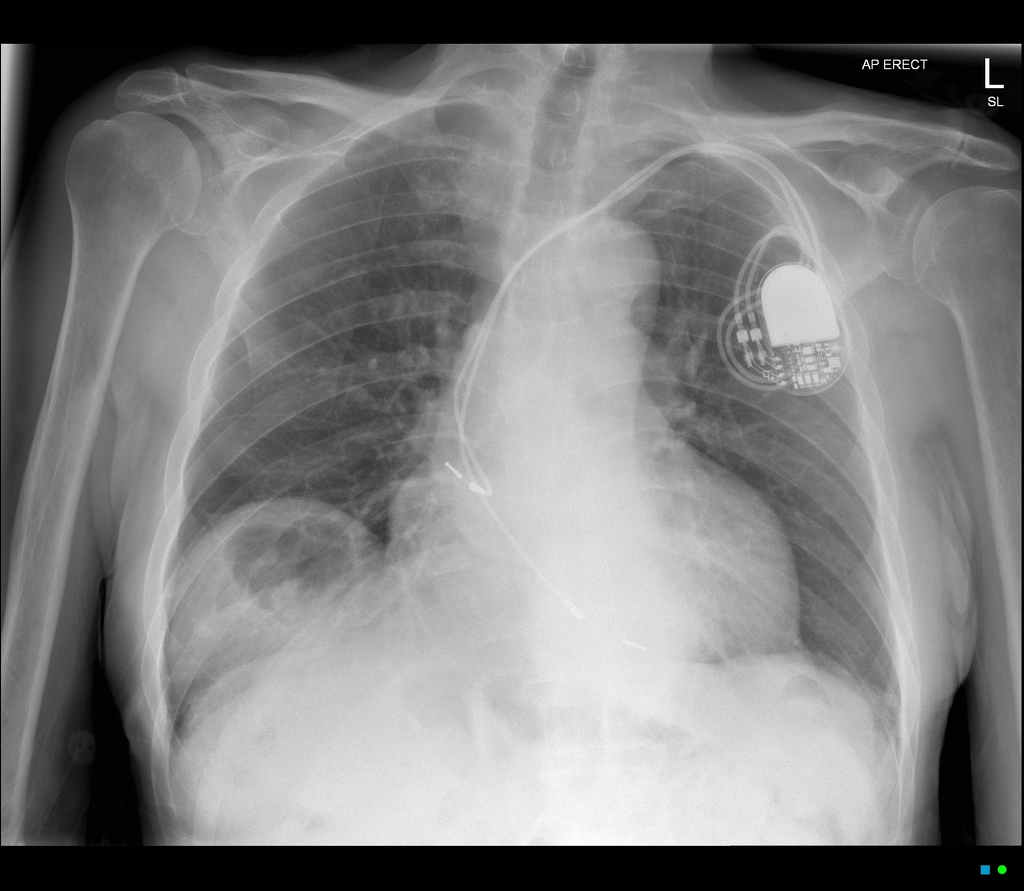cancer: (633, 383, 897, 721), (208, 500, 414, 771)
